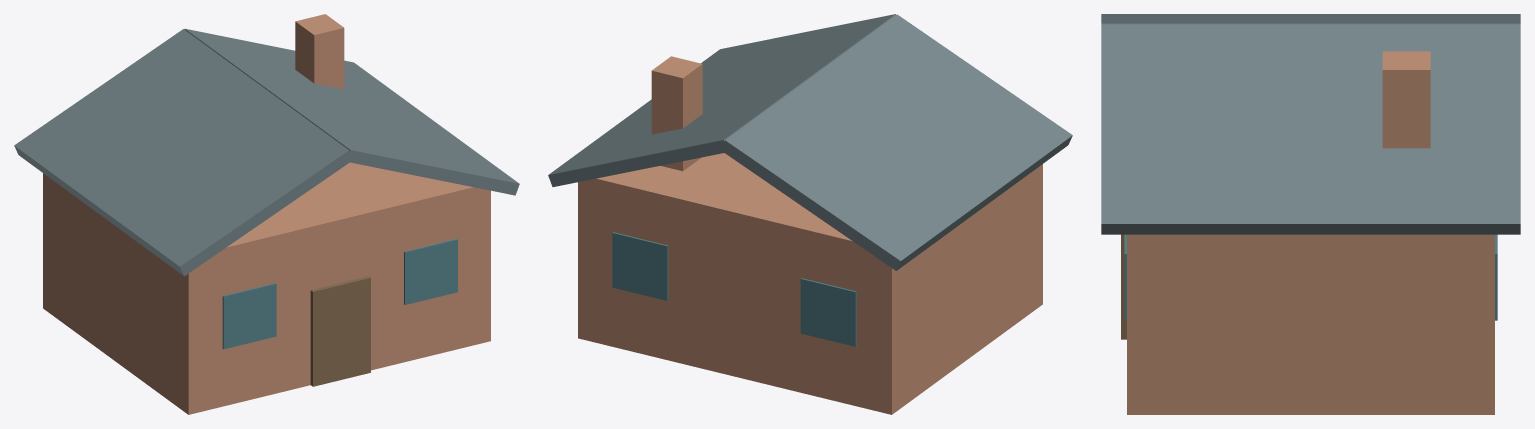
Rendered from house.glb.
The picture shows the model from 3 angles, left to right: view 1: azimuth 30°, elevation 25°; view 2: azimuth 150°, elevation 25°; view 3: azimuth 270°, elevation 25°; orthographic projection. The views are drawn at different scales.
Visible parts, largest first — view 1: Cube, Cube.003, Cube.006, Cube.007, Cube.008, Cube.001, Cube.002; view 2: Cube, Cube.003, Cube.006, Cube.008, Cube.004, Cube.005; view 3: Cube.006, Cube, Cube.008, Cube.003, Cube.007.
Part boxes in pixels (bbox=[...]): Cube: bbox=[43, 162, 490, 414]; Cube.003: bbox=[14, 29, 353, 276]; Cube.006: bbox=[184, 28, 519, 195]; Cube.007: bbox=[310, 276, 370, 386]; Cube.008: bbox=[295, 14, 344, 89]; Cube.001: bbox=[222, 283, 276, 349]; Cube.002: bbox=[404, 239, 457, 304]; Cube: bbox=[578, 153, 1042, 414]; Cube.003: bbox=[721, 14, 1072, 270]; Cube.006: bbox=[548, 14, 895, 186]; Cube.008: bbox=[651, 56, 702, 171]; Cube.004: bbox=[800, 278, 856, 346]; Cube.005: bbox=[612, 232, 668, 300]; Cube.006: bbox=[1101, 24, 1520, 234]; Cube: bbox=[1127, 234, 1494, 414]; Cube.008: bbox=[1382, 51, 1430, 148]; Cube.003: bbox=[1101, 14, 1520, 24]; Cube.007: bbox=[1121, 234, 1126, 339].
Size of the model in its own units: 6.75 by 4.75 by 5.7.
